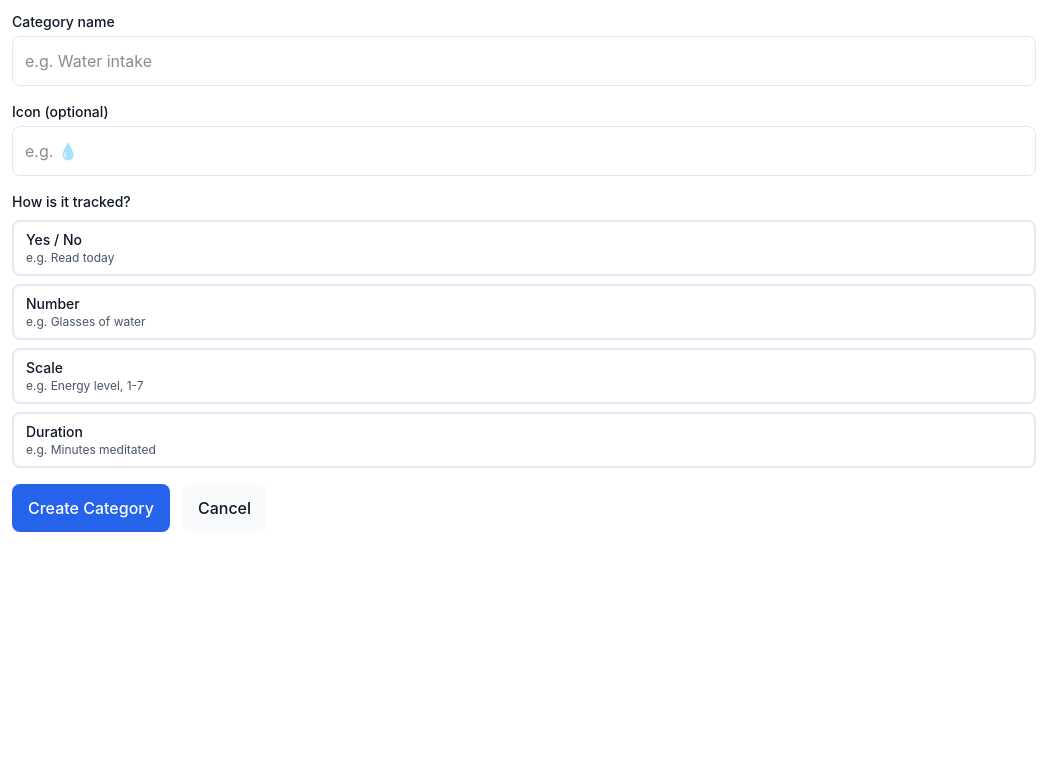
Test: CategoryCreateForm › requires a name and a type before submitting
Click the button "Create Category": point(91, 508) [12,484,170,532]
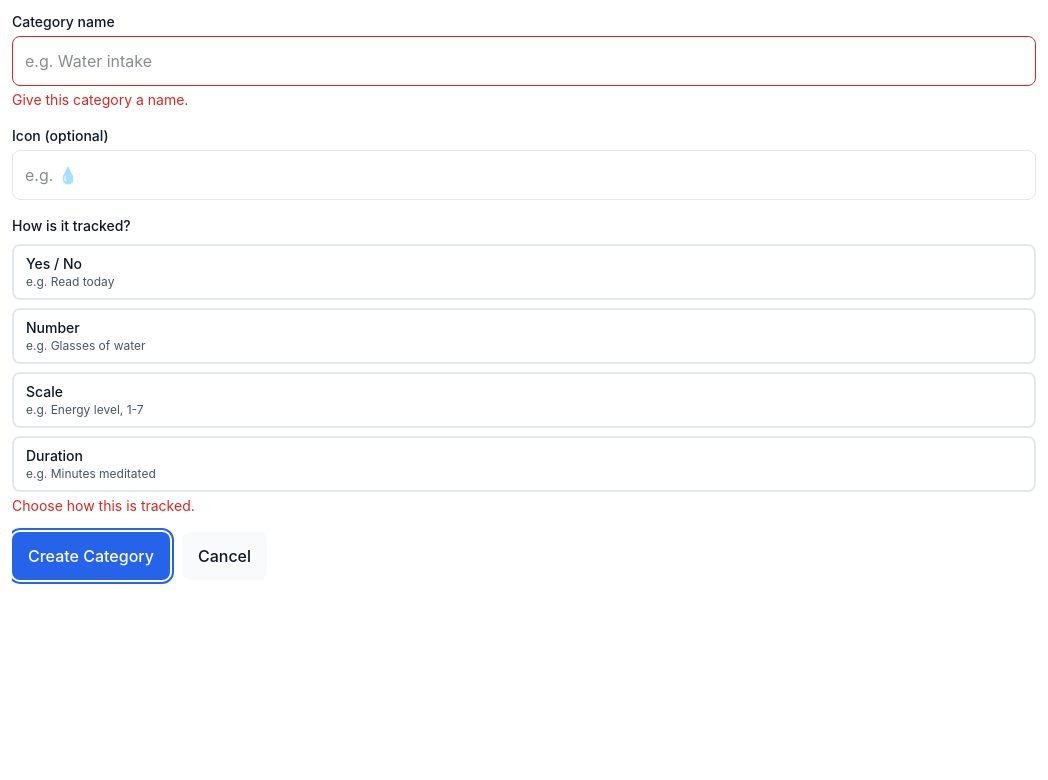
Expected: the text "Give this category a name." is shown, [12,91,188,108]
Expected: the text "Choose how this is tracked." is shown, [12,497,195,514]
